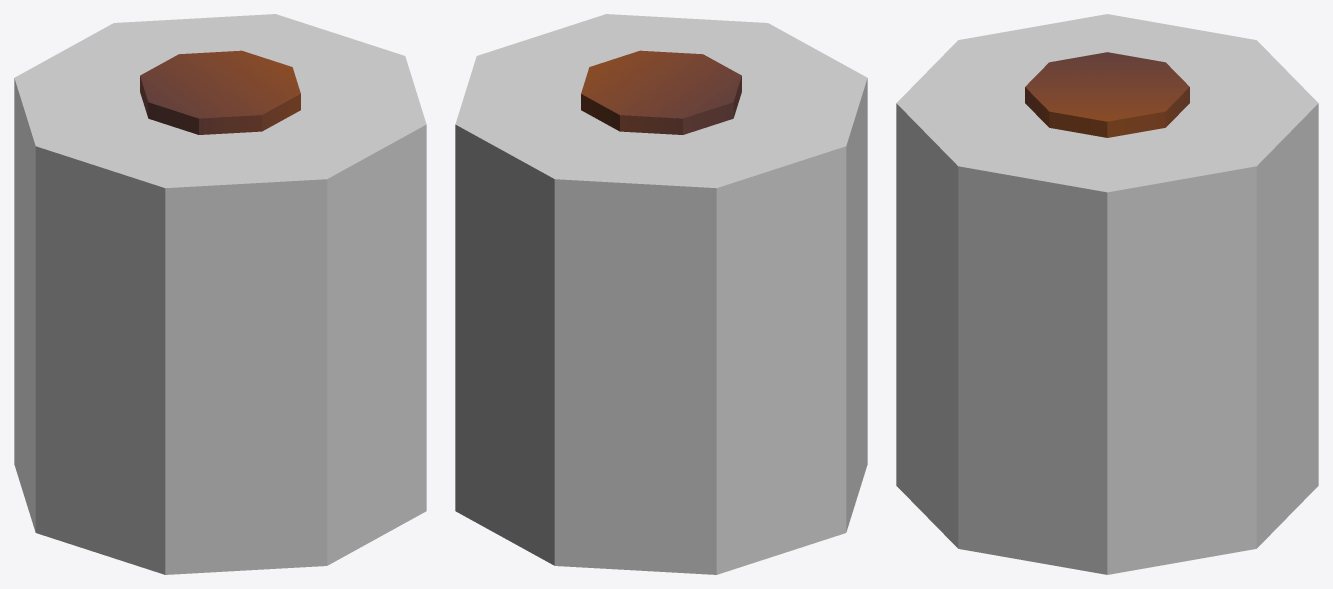
Rendered from Tissue Roll Pack.glb.
3 renders of one model, left to right at view 1: azimuth 30°, elevation 25°; view 2: azimuth 150°, elevation 25°; view 3: azimuth 270°, elevation 25°, orthographic.
Parts seen in each view (by area): view 1: Cylinder, Cylinder.001; view 2: Cylinder, Cylinder.001; view 3: Cylinder, Cylinder.001.
Part boxes in pixels (x1,y1,x2,y2): Cylinder: [14, 14, 426, 574]; Cylinder.001: [140, 50, 300, 134]; Cylinder: [455, 14, 867, 574]; Cylinder.001: [581, 50, 741, 134]; Cylinder: [896, 14, 1318, 574]; Cylinder.001: [1025, 52, 1189, 137].
Size of the model in its own units: 2 by 2.15 by 2.
2 materials, 1 textured.
